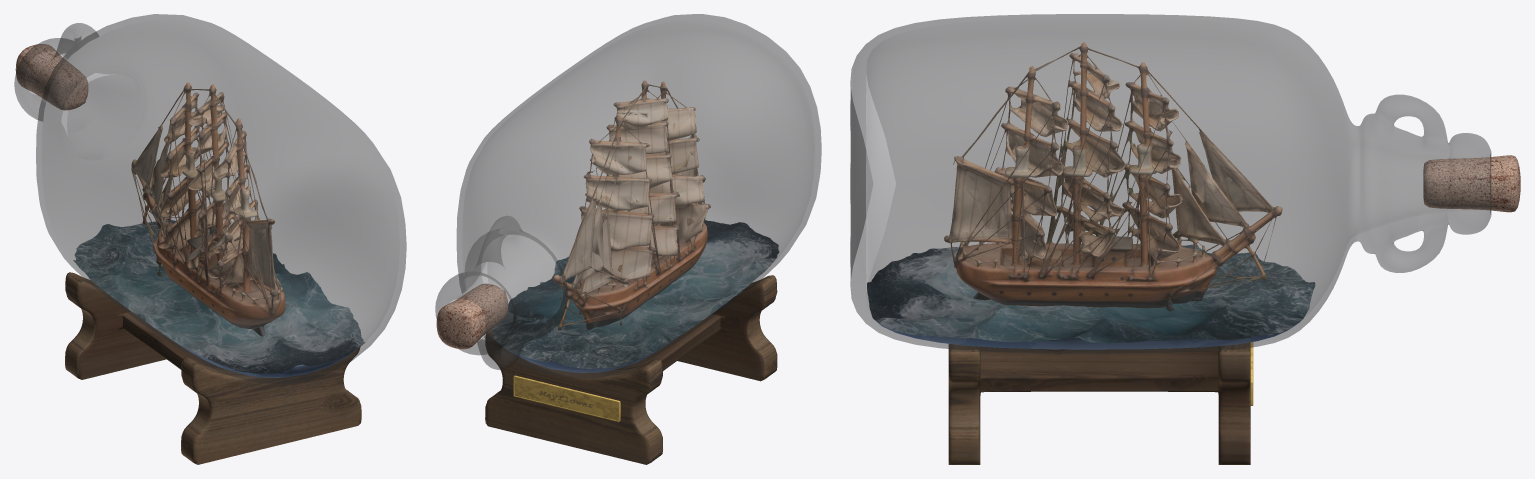
The model's file is ship_bottle_transformed.glb.
3 views of the same model, side by side, from view 1: azimuth 30°, elevation 25°; view 2: azimuth 150°, elevation 25°; view 3: azimuth 270°, elevation 25° (orthographic). The views are drawn at different scales.
Visible parts, largest first — view 1: bottle_export, boat_export, support_export, sea, cap_export, bottle_export.001; view 2: bottle_export, boat_export, support_export, sea, cap_export, plaque_export; view 3: bottle_export, boat_export, sea, support_export, cap_export, bottle_export.001.
Boxes of the visible parts, x1,y1,x2,y2 form: bottle_export: (14,14,406,384); boat_export: (131,82,285,336); support_export: (65,272,361,464); sea: (73,219,365,377); cap_export: (15,44,88,110); bottle_export.001: (61,72,115,137); bottle_export: (435,14,821,378); boat_export: (552,80,710,330); support_export: (485,275,777,464); sea: (492,220,779,372); cap_export: (436,283,508,349); plaque_export: (513,375,620,422); bottle_export: (850,14,1491,353); boat_export: (944,42,1282,311); sea: (867,243,1315,349); support_export: (948,342,1250,464); cap_export: (1423,155,1520,212); bottle_export.001: (866,72,927,295).
Bounding box in the file's own units: 1.4 × 2.14 × 3.35.
8 materials, 5 textured.
